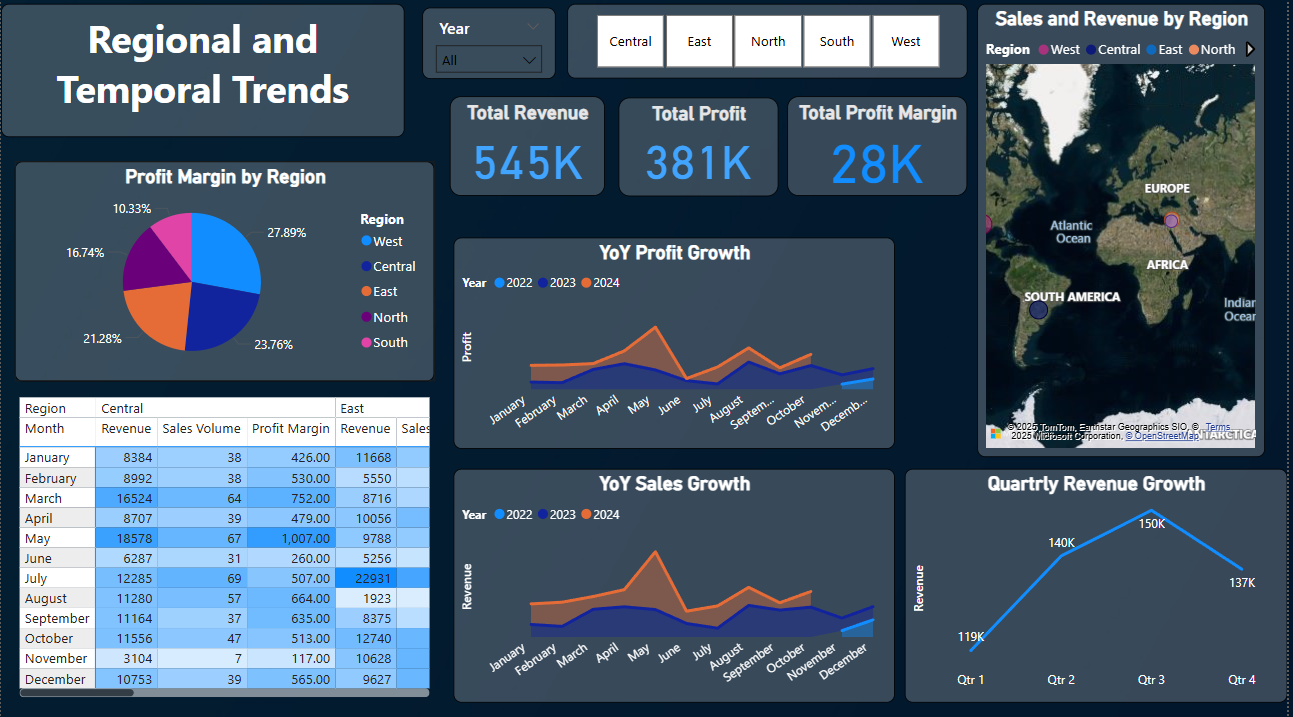

The dashboard page shown, as its layout file describes it:
{"tool":"powerbi","page":{"name":"Regional and Temporal Analysis","canvas":[1280,720],"ordinal":2},"visuals":[{"type":"pieChart","title":"Profit Margin by Region","fields":{"Category":["Sales data.Region"],"Y":["CountNonNull(Sales data.Profit Margin)"]},"box":[13.7,165.4,418,218.9],"z":0},{"type":"map","title":"Sales and Revenue by Region","fields":{"Category":["Sales data.Region"],"Size":["Sum(Sales data.Sales_Large.Revenue)"],"Series":["Sales data.Region"]},"box":[971.5,8.7,286.1,451.6],"z":1000},{"type":"textbox","box":[0,8.7,401.8,133.1],"z":2000},{"type":"lineChart","title":"Quartrly Revenue Growth","fields":{"Category":["Sales data.Orders_Large.OrderDate.Variation.Date Hierarchy.Quarter"],"Y":["Sum(Sales data.Sales_Large.Revenue)"]},"box":[899.4,471.5,380.7,232.6],"z":3000},{"type":"pivotTable","fields":{"Columns":["Sales data.Region"],"Values":["Sum(Sales data.Sales_Large.Revenue)","Sum(Sales data.Sales Volume)","Sum(Sales data.Profit Margin)"],"Rows":["Sales data.Orders_Large.OrderDate.Variation.Date Hierarchy.Month"]},"box":[13.7,395.6,418,308.5],"z":4000},{"type":"stackedAreaChart","title":"YoY Sales Growth","fields":{"Category":["Sales data.Orders_Large.OrderDate.Variation.Date Hierarchy.Month"],"Y":["Sum(Sales data.Sales_Large.Revenue)"],"Series":["Sales data.Orders_Large.OrderDate.Variation.Date Hierarchy.Year"]},"box":[450.3,471.5,439.1,232.6],"z":5000},{"type":"stackedAreaChart","title":"YoY Profit Growth","fields":{"Category":["Sales data.Orders_Large.OrderDate.Variation.Date Hierarchy.Month"],"Series":["Sales data.Orders_Large.OrderDate.Variation.Date Hierarchy.Year"],"Y":["Sum(Sales data.Profit)"]},"box":[450.3,241.3,439.1,210.2],"z":6000},{"type":"slicer","fields":{"Values":["Sales data.Orders_Large.OrderDate.Variation.Date Hierarchy.Year"]},"box":[419.2,12.4,133.1,70.9],"z":7000},{"type":"slicer","fields":{"Values":["Sales data.Region"]},"box":[563.5,8.7,398.1,74.6],"z":8000},{"type":"card","title":"Total Revenue","fields":{"Values":["Sum(Sales data.Sales_Large.Revenue)"]},"box":[446.6,100.8,154.3,99.5],"z":9000},{"type":"card","title":"Total Profit","fields":{"Values":["Sum(Sales data.Profit)"]},"box":[614.5,102,159.2,98.3],"z":10000},{"type":"card","title":"Total Profit Margin","fields":{"Values":["Sum(Sales data.Profit Margin)"]},"box":[782.5,100.8,179.1,99.5],"z":11000}]}

Visuals, with their boxes in screenshot pixels (x1, y1, x2, y2), scaled from the page's 1280x720 canvas onto the 1293x717 screenshot:
"Profit Margin by Region" pieChart: bbox(14, 165, 436, 383)
"Sales and Revenue by Region" map: bbox(981, 9, 1270, 458)
textbox: bbox(0, 9, 406, 141)
"Quartrly Revenue Growth" lineChart: bbox(909, 470, 1292, 701)
pivotTable - Sales data.Region x Sum(Sales data.Sales_Large.Revenue): bbox(14, 394, 436, 701)
"YoY Sales Growth" stackedAreaChart: bbox(455, 470, 898, 701)
"YoY Profit Growth" stackedAreaChart: bbox(455, 240, 898, 450)
slicer - Sales data.Orders_Large.OrderDate.Variation.Date Hierarchy.Year: bbox(423, 12, 558, 83)
slicer - Sales data.Region: bbox(569, 9, 971, 83)
"Total Revenue" card: bbox(451, 100, 607, 199)
"Total Profit" card: bbox(621, 102, 782, 199)
"Total Profit Margin" card: bbox(790, 100, 971, 199)
